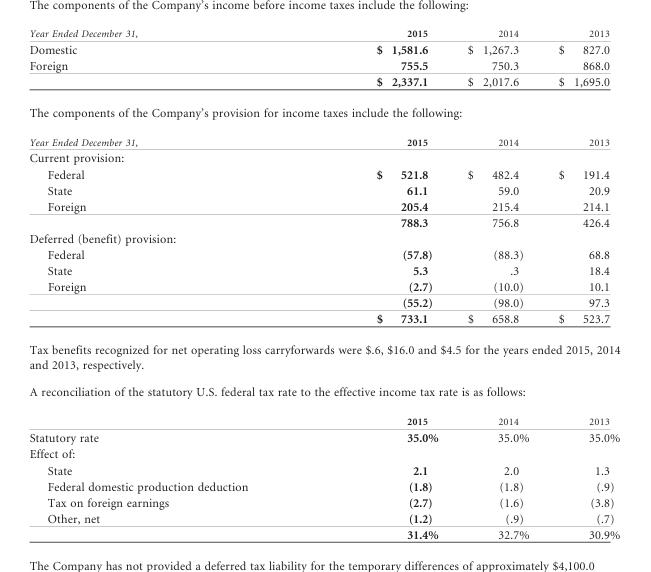table: (28, 28, 619, 540)
table column: (28, 28, 311, 540), (311, 28, 452, 540), (452, 28, 543, 540), (543, 28, 619, 540)
table column header: (28, 28, 619, 41)
table projected row header: (28, 334, 619, 407), (28, 97, 619, 128), (28, 149, 619, 166), (28, 230, 619, 246), (28, 446, 619, 462)
table row: (28, 334, 619, 407), (28, 97, 619, 128), (28, 74, 619, 97), (28, 311, 619, 334), (28, 407, 619, 429), (28, 128, 619, 149), (28, 41, 619, 58), (28, 149, 619, 166), (28, 262, 619, 279), (28, 429, 619, 446), (28, 58, 619, 74), (28, 166, 619, 182), (28, 182, 619, 198), (28, 198, 619, 214), (28, 214, 619, 230), (28, 230, 619, 246), (28, 246, 619, 262), (28, 279, 619, 295), (28, 295, 619, 311), (28, 446, 619, 462), (28, 462, 619, 478), (28, 478, 619, 494), (28, 494, 619, 510), (28, 510, 619, 526), (28, 526, 619, 540), (28, 28, 619, 41)
